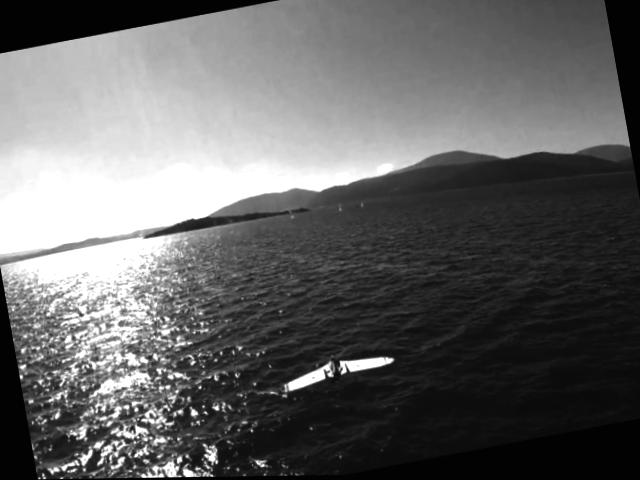hedef: (273, 327, 422, 409)
